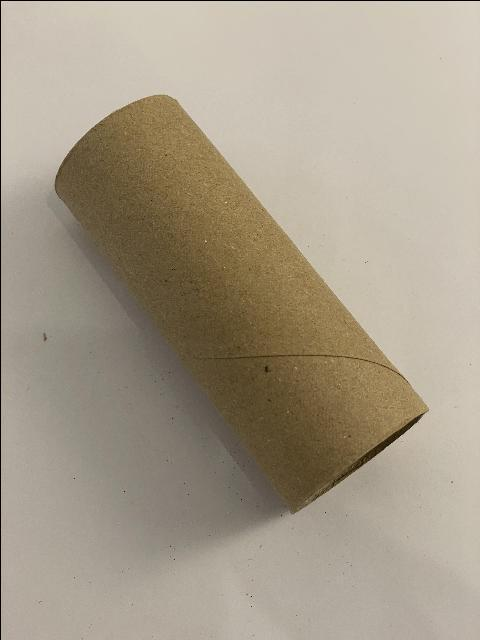tissueroll: (52, 90, 430, 516)
